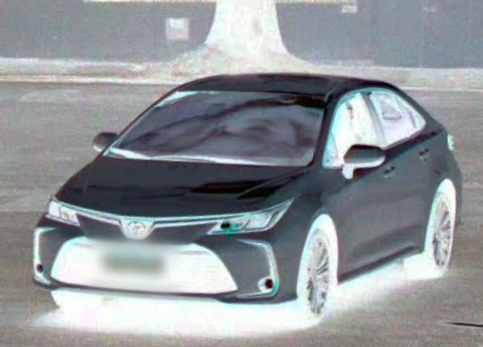car: (32, 73, 462, 325)
